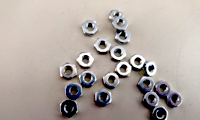nut: (60, 100, 79, 118), (103, 72, 121, 90), (66, 83, 83, 100), (61, 63, 78, 80), (96, 90, 113, 107), (116, 61, 133, 78), (77, 52, 95, 68), (111, 45, 126, 64), (83, 20, 99, 37), (95, 38, 112, 54), (139, 76, 155, 93), (80, 71, 96, 87), (144, 92, 160, 108), (114, 29, 131, 44), (168, 91, 183, 108), (112, 17, 130, 31), (156, 81, 172, 96), (153, 106, 169, 120), (131, 55, 145, 71), (144, 61, 158, 76), (109, 10, 126, 20)
